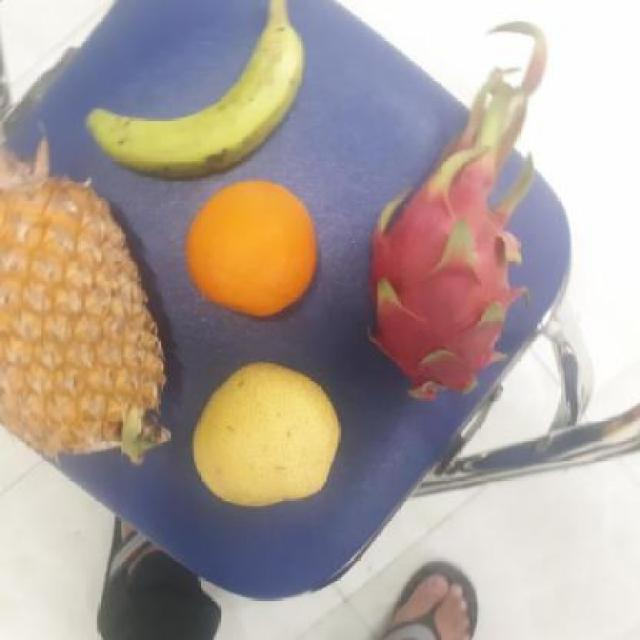banana: (84, 0, 300, 175)
dragon fruit: (362, 132, 526, 403)
guava: (182, 180, 320, 312)
pear: (188, 360, 344, 505)
